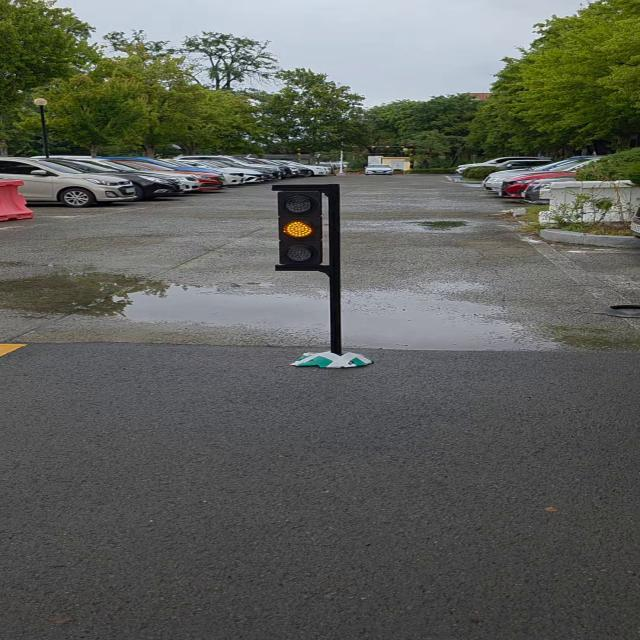yellow: (275, 188, 326, 272)
